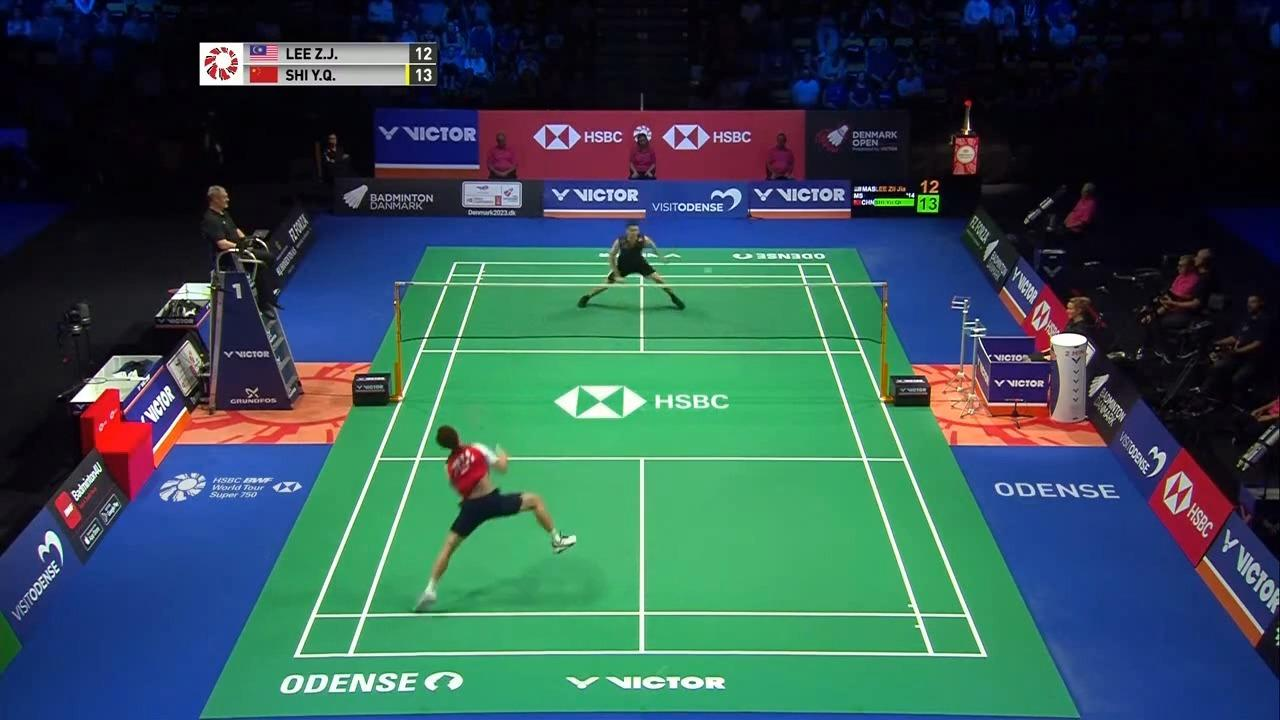shuttle: (700, 266, 712, 275)
